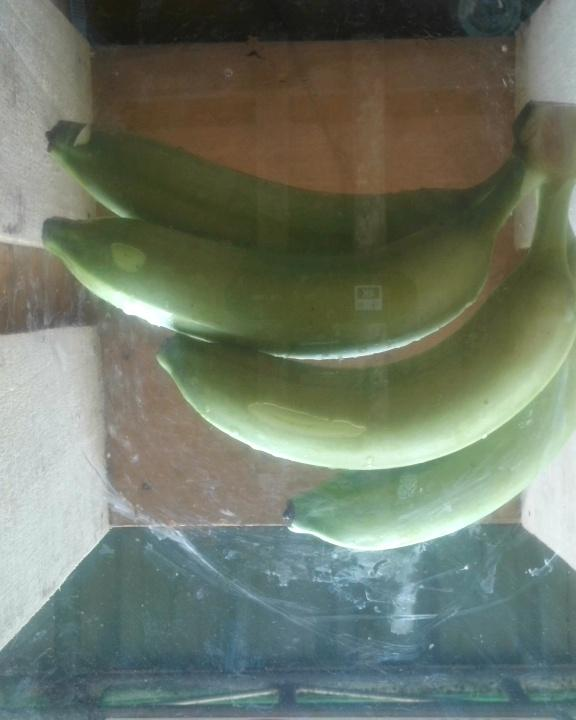SPOT: (42, 100, 576, 561)
